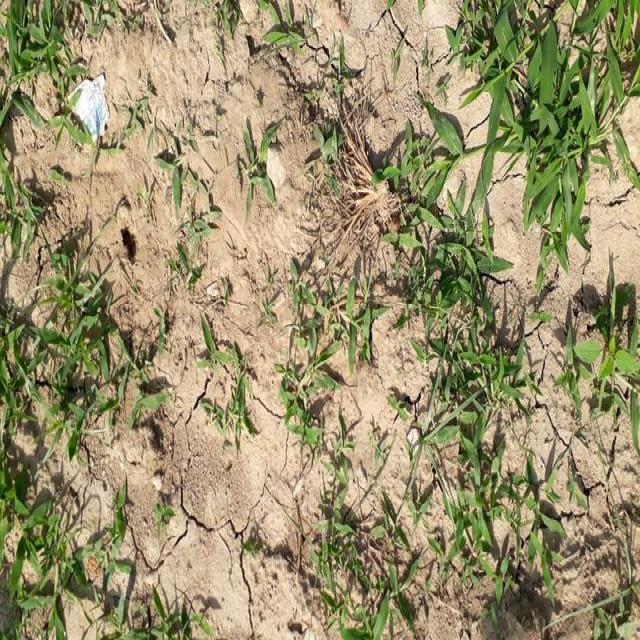weed: (440, 1, 640, 254), (7, 256, 122, 640), (409, 317, 538, 640), (0, 0, 71, 185)
